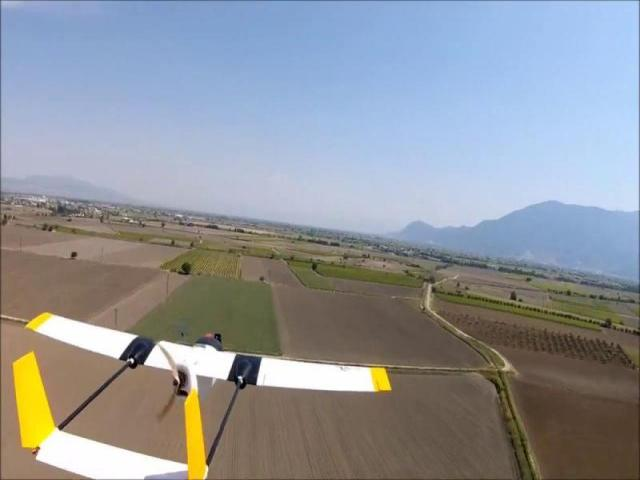hedef: (2, 304, 400, 480)
